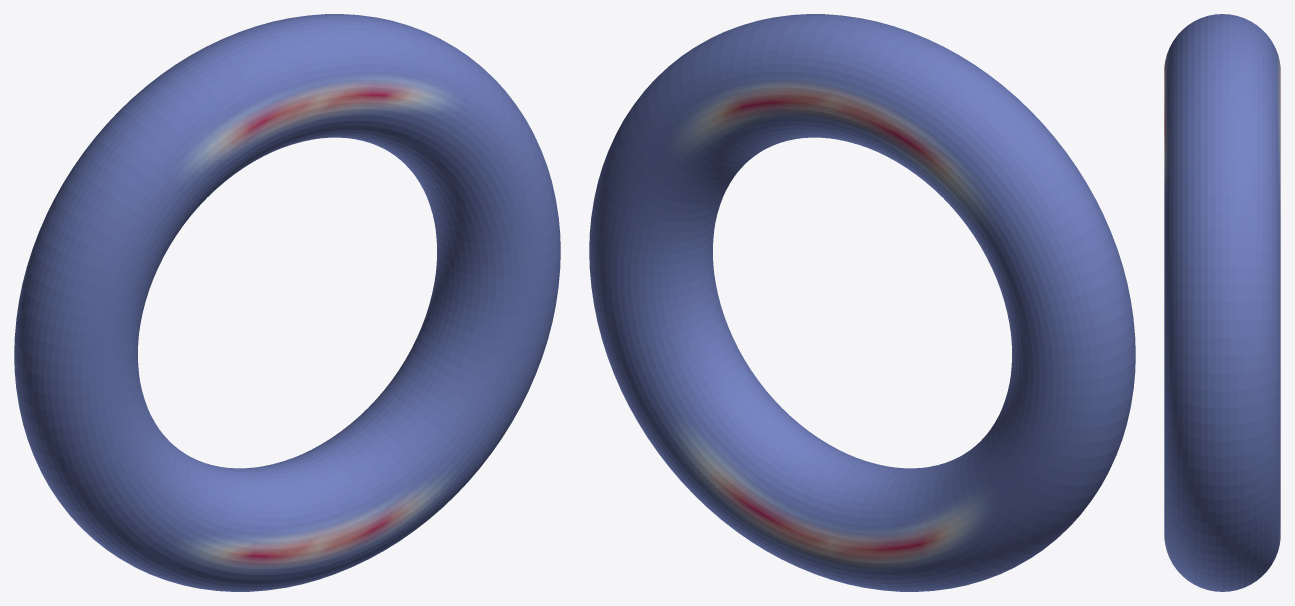
3 renders of one model, left to right at view 1: azimuth 30°, elevation 25°; view 2: azimuth 150°, elevation 25°; view 3: azimuth 270°, elevation 25°, orthographic. The views are drawn at different scales.
Visible parts, largest first — view 1: world; view 2: world; view 3: world.
Boxes of the visible parts, left/top/right/bottom form: world: left=14, top=14, right=560, bottom=591; world: left=589, top=14, right=1135, bottom=591; world: left=1164, top=14, right=1280, bottom=591.
Size of the model in its own units: 12.53 by 12.53 by 2.53.
